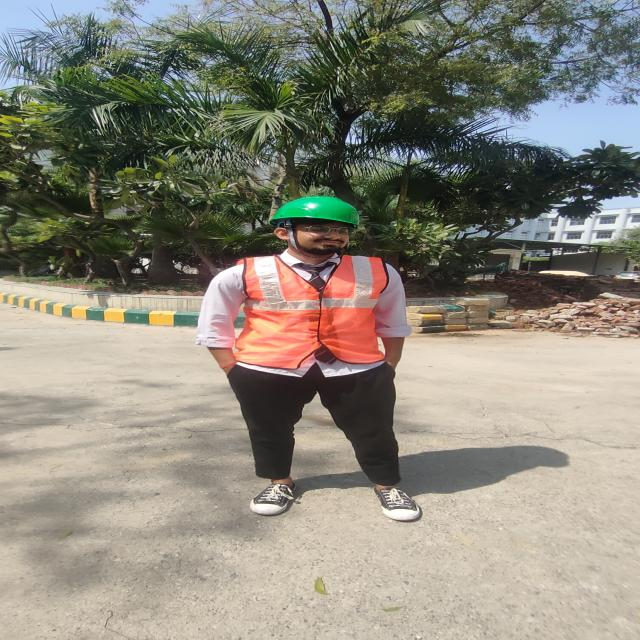safe: (200, 197, 418, 520)
